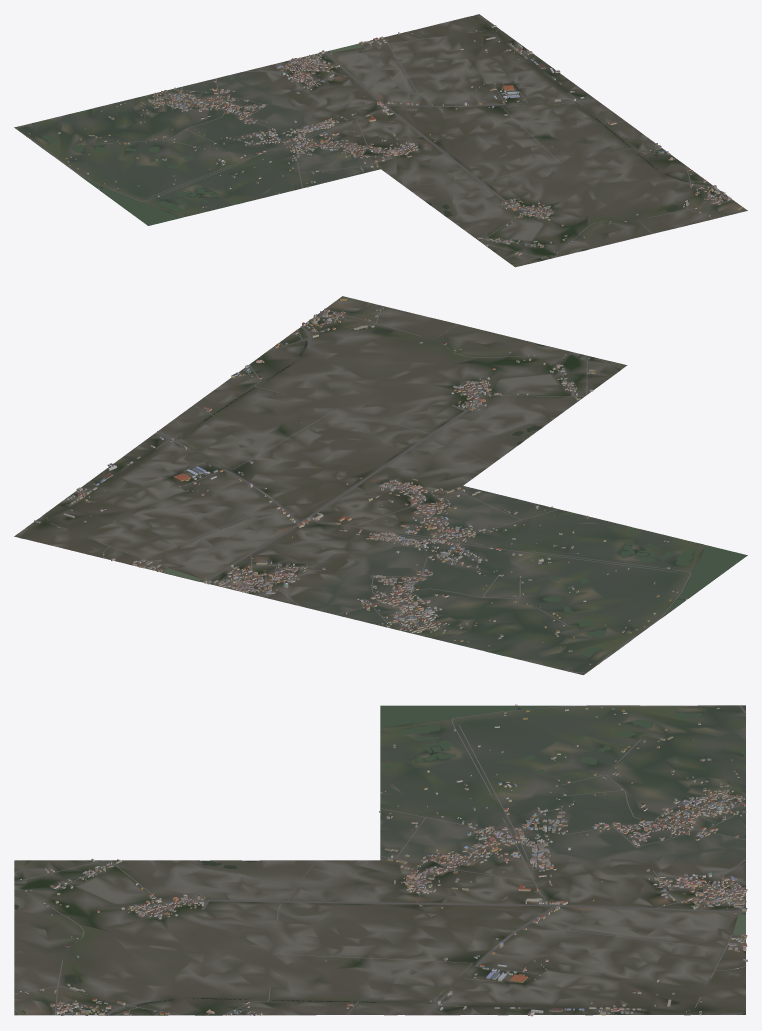
3 renders of one model, top to bottom at view 1: azimuth 30°, elevation 25°; view 2: azimuth 150°, elevation 25°; view 3: azimuth 270°, elevation 25°, orthographic. The views are drawn at different scales.
Visible parts, largest first — view 1: ground, buildings, roads, water; view 2: ground, buildings, roads, water; view 3: ground, buildings, roads, water.
Boxes of the visible parts, <box> form: ground: <box>14,14,747,267</box>; buildings: <box>28,25,742,258</box>; roads: <box>17,15,745,257</box>; water: <box>36,19,708,251</box>; ground: <box>14,296,747,674</box>; buildings: <box>34,298,687,664</box>; roads: <box>16,298,691,673</box>; water: <box>22,329,747,657</box>; ground: <box>14,705,745,1015</box>; buildings: <box>15,704,747,1016</box>; roads: <box>14,705,746,1015</box>; water: <box>14,705,745,1014</box>.
Bounding box in the file's own units: 2817 × 19.95 × 2812.
